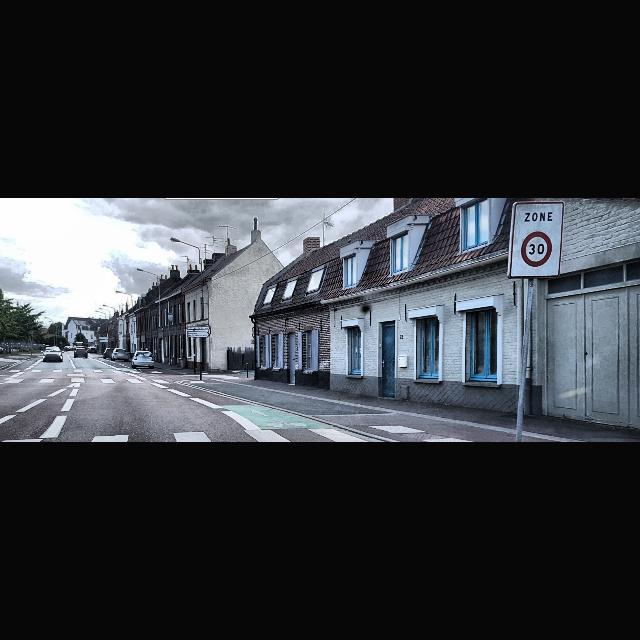speed_30: (521, 231, 553, 267)
